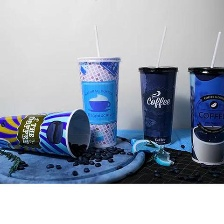paper_cup: (0, 105, 96, 162), (73, 52, 123, 151), (133, 61, 180, 149), (185, 63, 223, 168)
